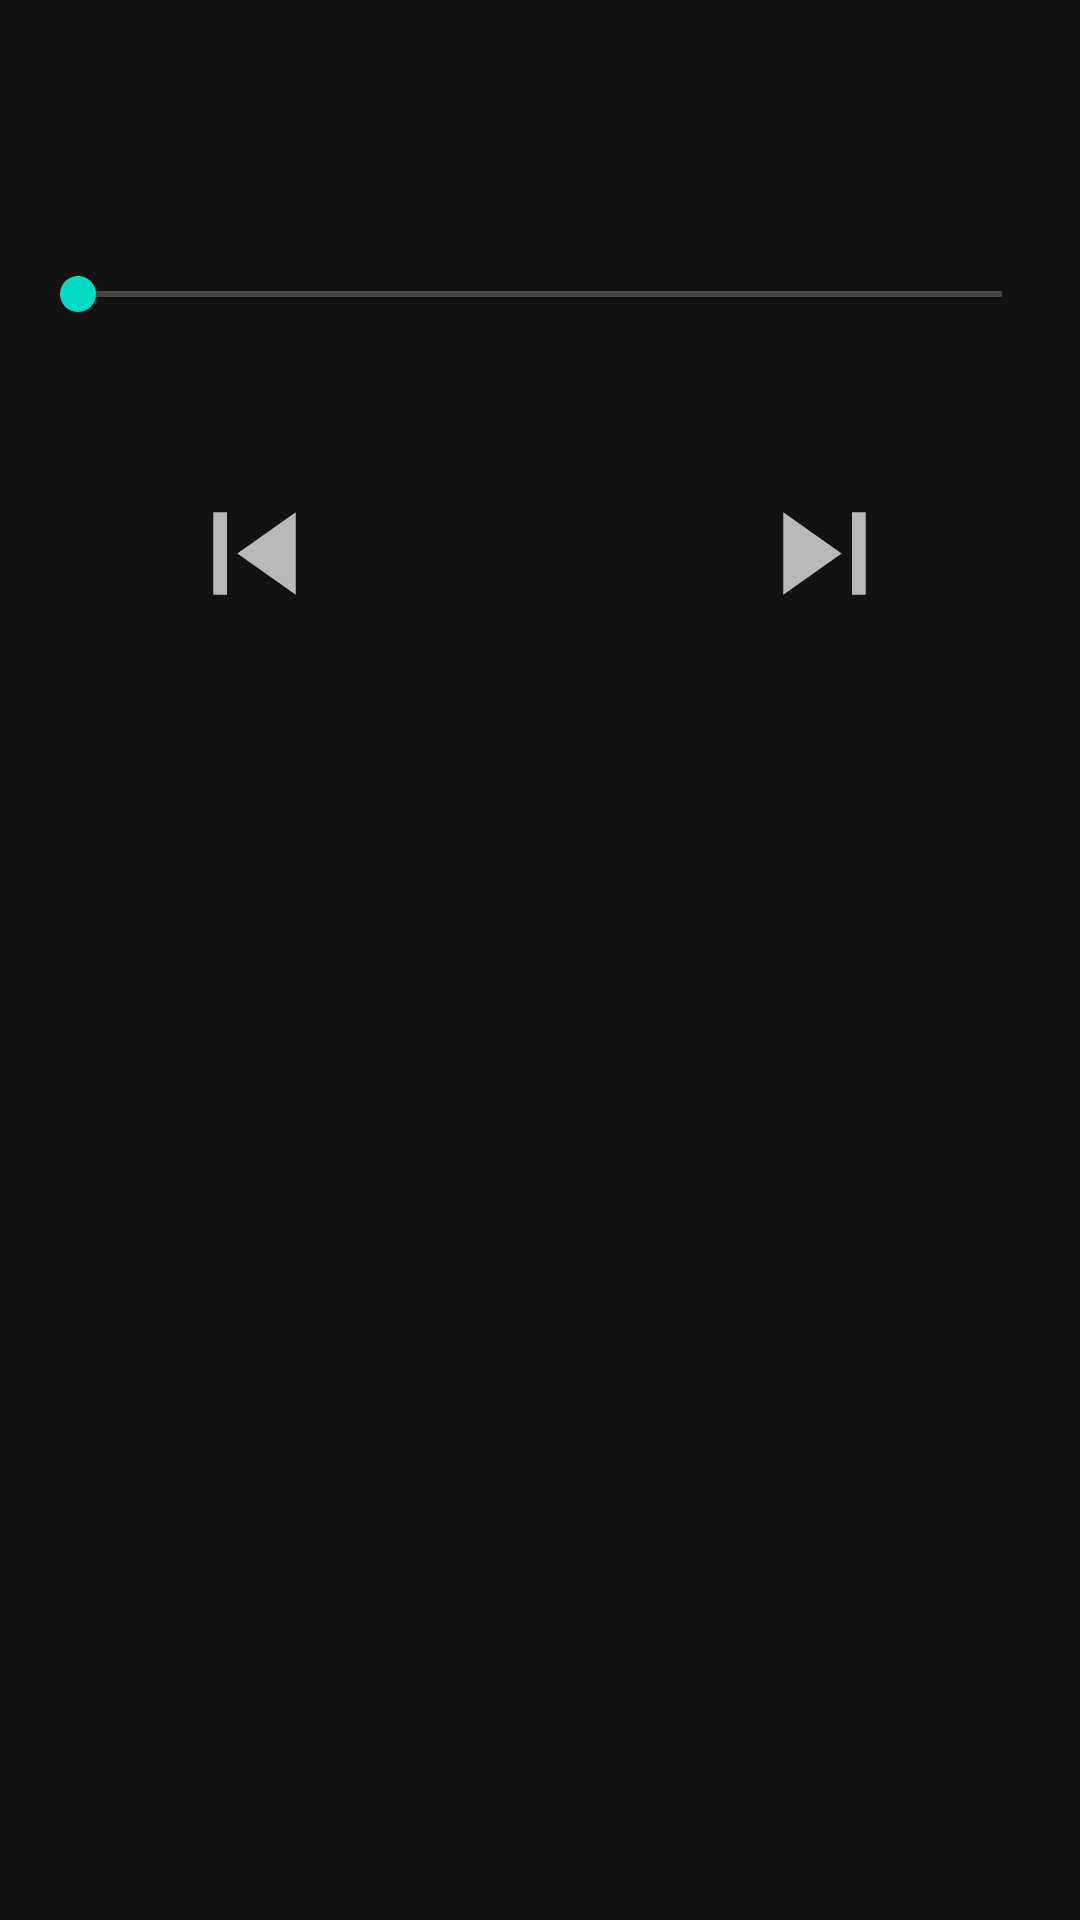

Named icons in this screenshot (1080*1920) and their bounding boxes, bbox(x1, y1, x2, y2):
skip next: bbox(783, 512, 866, 595)
skip previous: bbox(213, 512, 296, 595)
